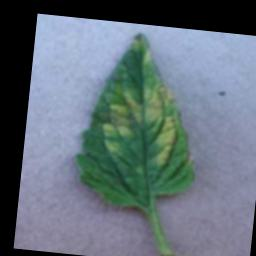Leaf_Mold: (99, 80, 185, 170)
